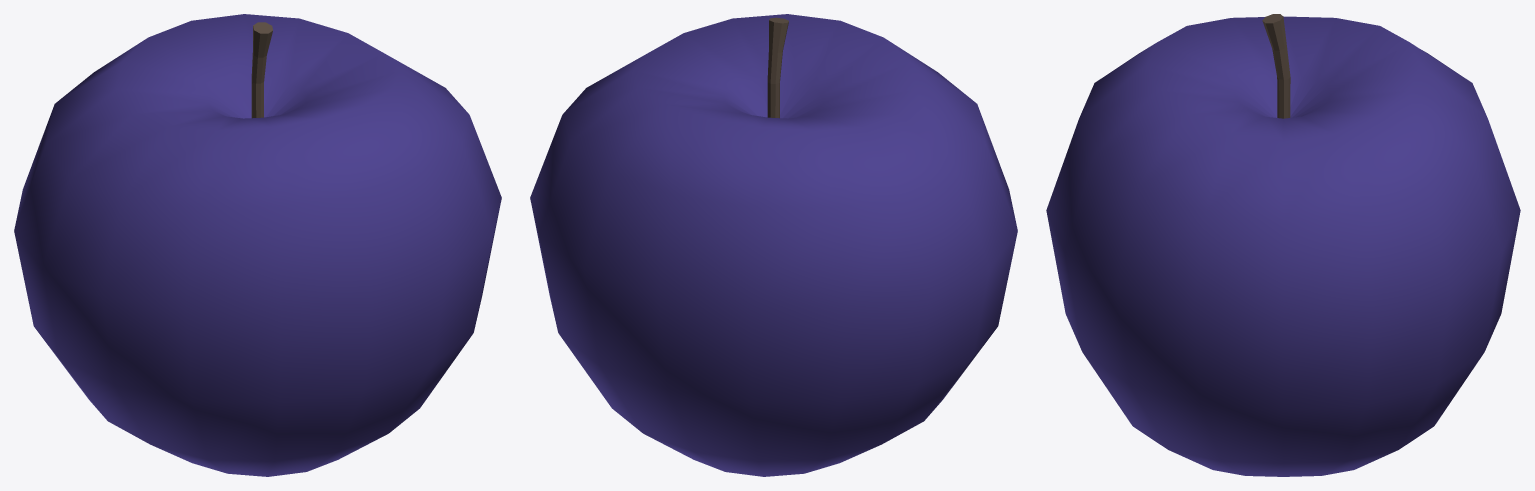
File: Apple3star.fbx
The picture shows the model from 3 angles, left to right: view 1: azimuth 30°, elevation 25°; view 2: azimuth 150°, elevation 25°; view 3: azimuth 270°, elevation 25°; orthographic projection. The views are drawn at different scales.
Parts seen in each view (by area): view 1: Apple; view 2: Apple; view 3: Apple.
Part boxes in pixels (x1,y1,x2,y2): Apple: (14,14,501,476); Apple: (530,14,1017,476); Apple: (1046,14,1520,476).
Bounding box in the file's own units: 223 × 204 × 207.
